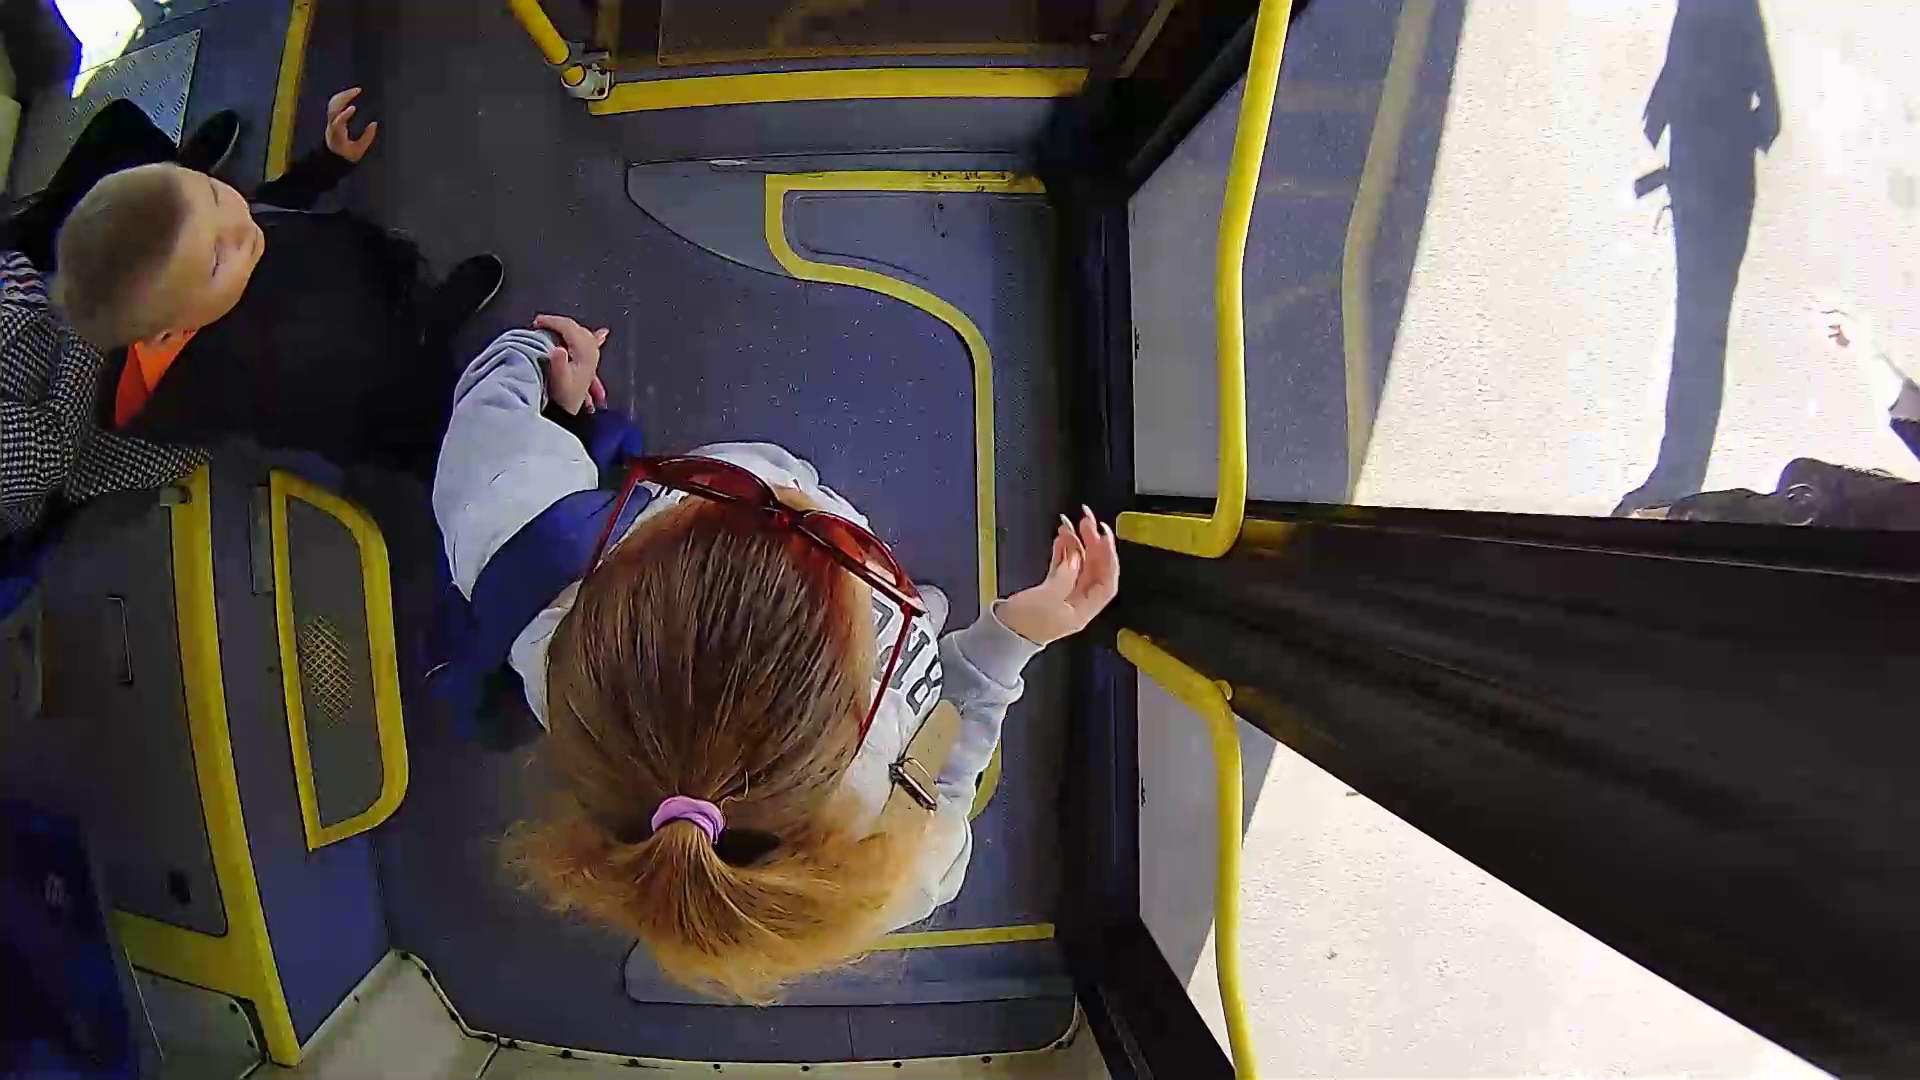person: (419, 250, 1109, 947)
